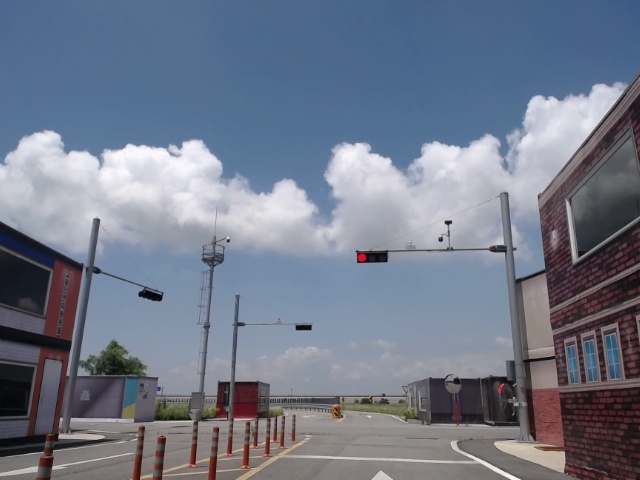red_3: (357, 252, 388, 264)
